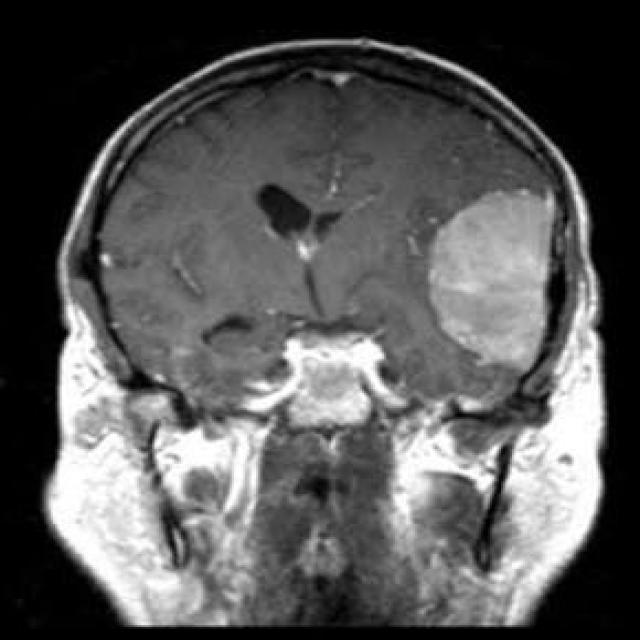Tumor: (417, 189, 558, 361)
